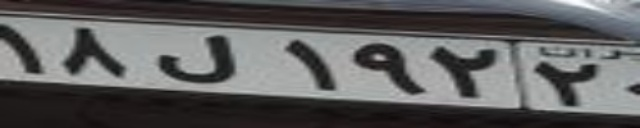0: (619, 80, 639, 96)
1: (278, 39, 334, 91), (0, 22, 45, 73)
2: (428, 45, 498, 98), (529, 60, 600, 106)
8: (58, 26, 126, 77)
9: (350, 41, 422, 93)
lam: (156, 33, 233, 84)
